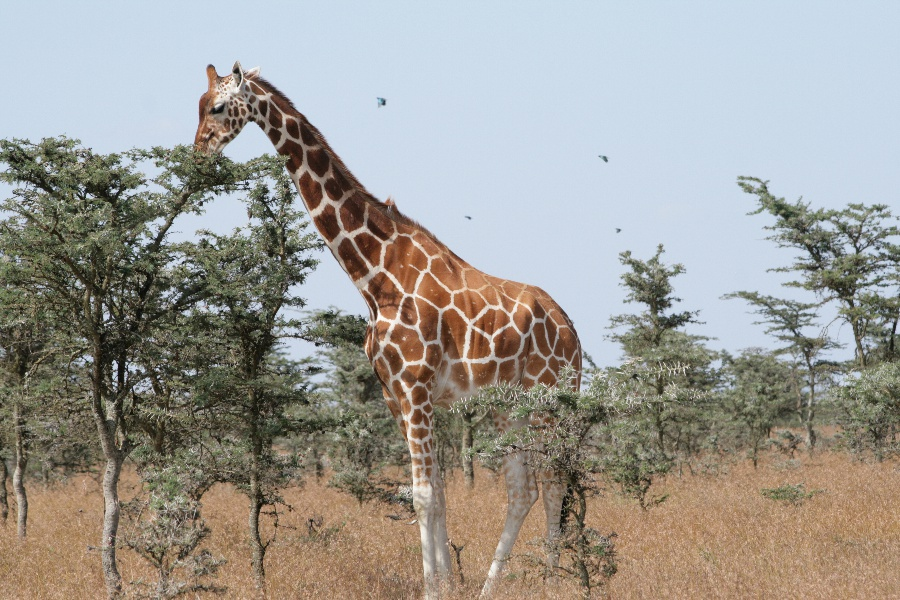giraffe: (180, 55, 612, 594)
